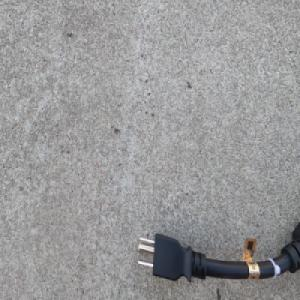Wire: (136, 220, 300, 284)
